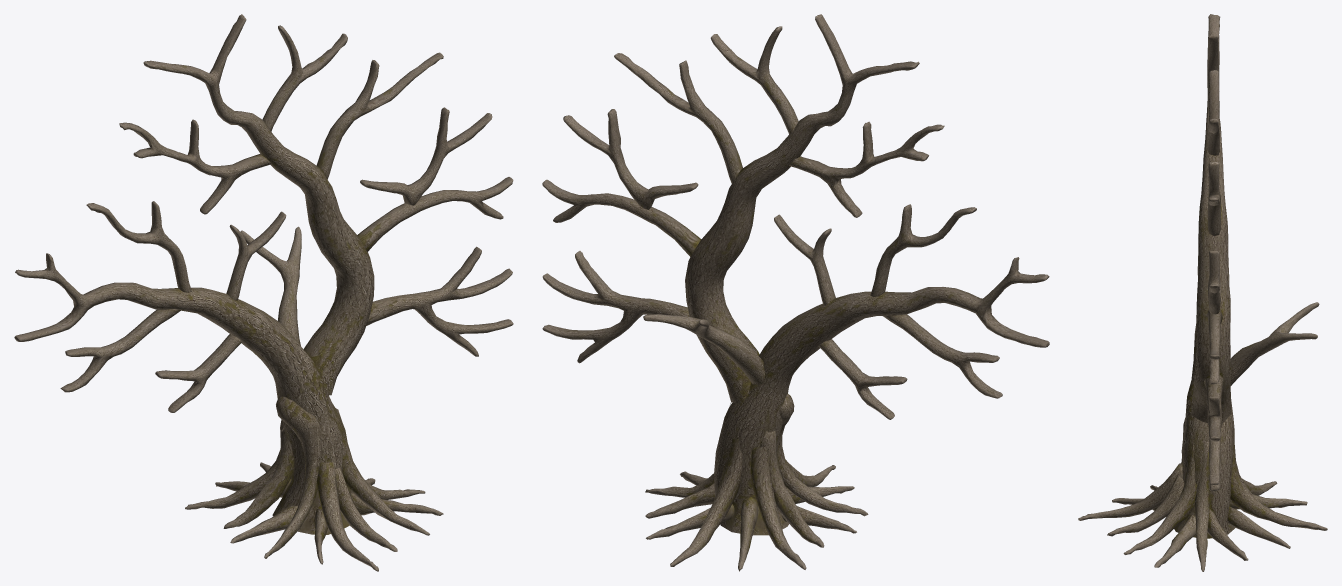
Rendered from Meshy_AI__0915201211_texture.glb.
The picture shows the model from 3 angles, left to right: view 1: azimuth 30°, elevation 25°; view 2: azimuth 150°, elevation 25°; view 3: azimuth 270°, elevation 25°; orthographic projection. The views are drawn at different scales.
Bounding box in the file's own units: 1 × 1 × 0.4912.
1 material, 1 textured.
